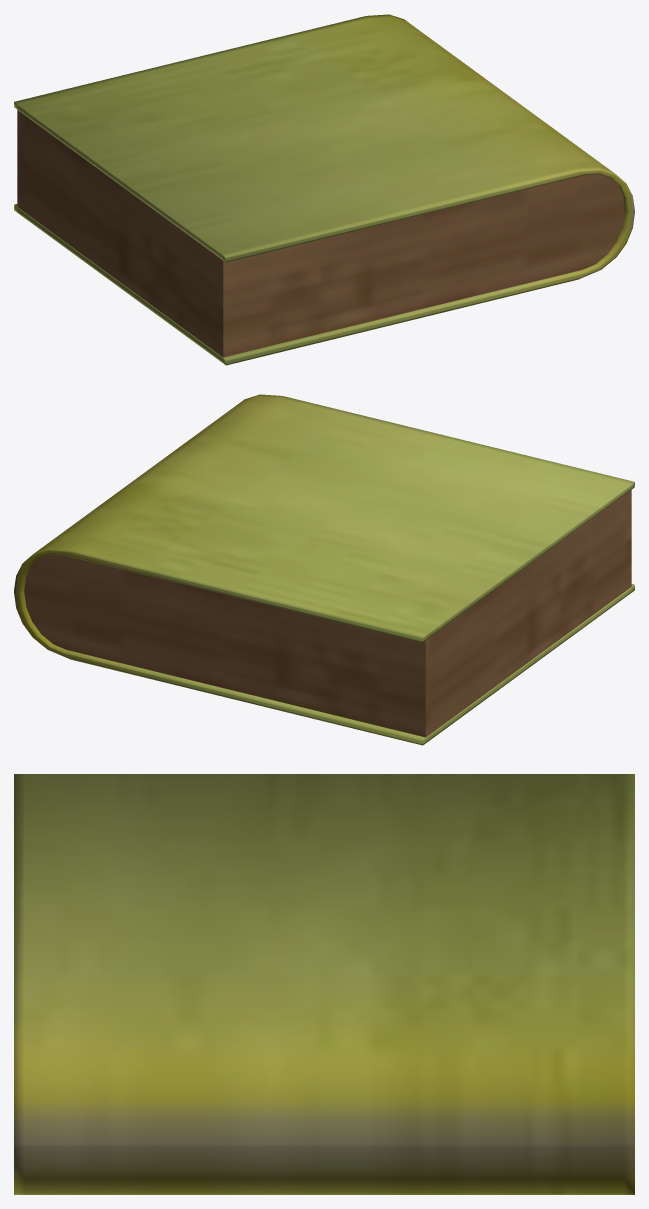
Rendered from BOOK 2.fbx.
3 renders of one model, top to bottom at view 1: azimuth 30°, elevation 25°; view 2: azimuth 150°, elevation 25°; view 3: azimuth 270°, elevation 25°, orthographic. The views are drawn at different scales.
Visible parts, largest first — view 1: BOOK 2; view 2: BOOK 2; view 3: BOOK 2.
Boxes of the visible parts, box(x1,y1,x2,y2) form: BOOK 2: box(14, 14, 634, 365); BOOK 2: box(14, 394, 634, 745); BOOK 2: box(14, 774, 634, 1194).
Size of the model in its own units: 0.6702 by 0.6018 by 0.1699.
